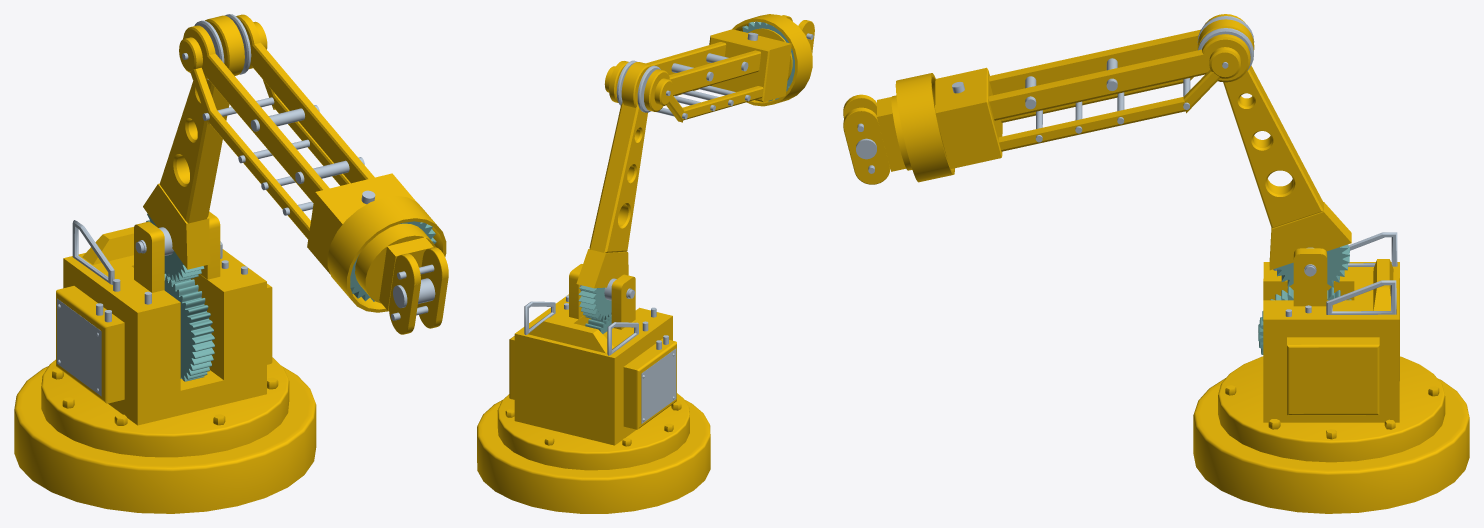
Rendered from Robotic Arm.FBX.
The picture shows the model from 3 angles, left to right: view 1: azimuth 30°, elevation 25°; view 2: azimuth 150°, elevation 25°; view 3: azimuth 270°, elevation 25°; orthographic projection. The views are drawn at different scales.
Parts seen in each view (by area): view 1: Base Platform, Base Pivot, Upper Arm Pivot, End Ring Pivot, Lower Arm Pivot, Lower Details, Lower Gear, Upper Bolts, End Bolts, Arm Bracket, Lower Arm Gear, End Ring Gear; view 2: Base Platform, Base Pivot, Upper Arm Pivot, Lower Arm Pivot, Lower Details, End Ring Pivot, Upper Bolts, Lower Arm Gear, Arm Bracket, End Ring Gear; view 3: Base Platform, Base Pivot, Upper Arm Pivot, Lower Arm Pivot, End Ring Pivot, Lower Details, Upper Bolts, Lower Arm Gear, Arm Bracket.
Boxes of the visible parts, left/top/right/bottom form: Base Platform: left=14, top=357, right=316, bottom=513; Base Pivot: left=56, top=211, right=272, bottom=425; Upper Arm Pivot: left=179, top=14, right=415, bottom=274; End Ring Pivot: left=327, top=196, right=448, bottom=334; Lower Arm Pivot: left=143, top=15, right=244, bottom=269; Lower Details: left=57, top=220, right=247, bottom=396; Lower Gear: left=164, top=273, right=214, bottom=381; Upper Bolts: left=202, top=97, right=375, bottom=215; End Bolts: left=391, top=264, right=435, bottom=320; Arm Bracket: left=182, top=14, right=251, bottom=79; Lower Arm Gear: left=146, top=213, right=204, bottom=281; End Ring Gear: left=350, top=221, right=436, bottom=301; Base Platform: left=477, top=393, right=710, bottom=513; Base Pivot: left=509, top=264, right=676, bottom=445; Upper Arm Pivot: left=604, top=29, right=791, bottom=122; Lower Arm Pivot: left=576, top=62, right=652, bottom=288; Lower Details: left=524, top=278, right=676, bottom=423; End Ring Pivot: left=732, top=14, right=814, bottom=106; Upper Bolts: left=656, top=32, right=758, bottom=119; Lower Arm Gear: left=578, top=285, right=611, bottom=321; Arm Bracket: left=616, top=60, right=670, bottom=112; End Ring Gear: left=742, top=21, right=794, bottom=101; Base Platform: left=1193, top=356, right=1469, bottom=513; Base Pivot: left=1263, top=248, right=1399, bottom=422; Upper Arm Pivot: left=934, top=14, right=1250, bottom=169; Lower Arm Pivot: left=1197, top=19, right=1351, bottom=270; End Ring Pivot: left=843, top=73, right=954, bottom=184; Lower Details: left=1273, top=232, right=1397, bottom=316; Upper Bolts: left=952, top=58, right=1190, bottom=142; Lower Arm Gear: left=1274, top=244, right=1349, bottom=287; Arm Bracket: left=1197, top=16, right=1254, bottom=70.
Size of the model in its own units: 1.22 by 2.1 by 2.76.
